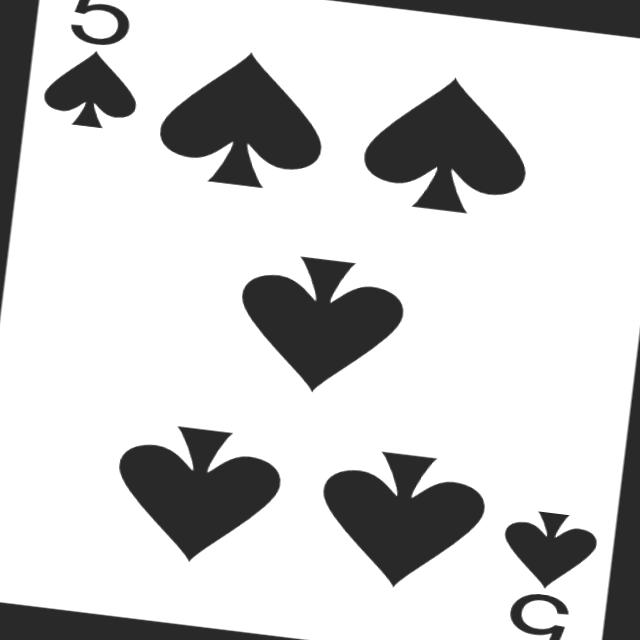Spade: (108, 419, 286, 574), (231, 249, 410, 403), (152, 42, 332, 195), (312, 444, 490, 598), (358, 66, 536, 220), (39, 44, 142, 132), (498, 506, 600, 594)
